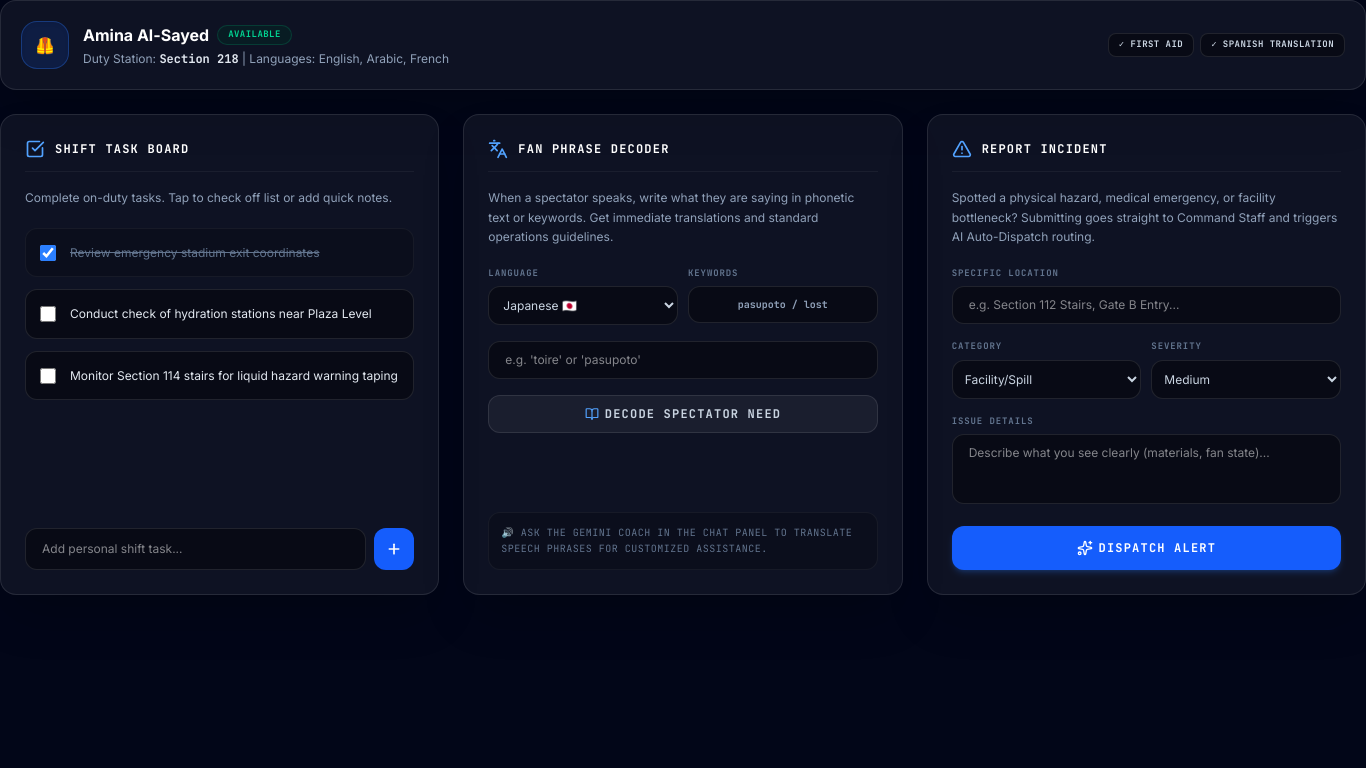
VolunteerDashboard Component Tests › adds a custom task using the form
Type "Review safety gear" into the field with id "new-task-input". click: [196, 549]
box: x1=25 y1=528 x2=366 y2=570
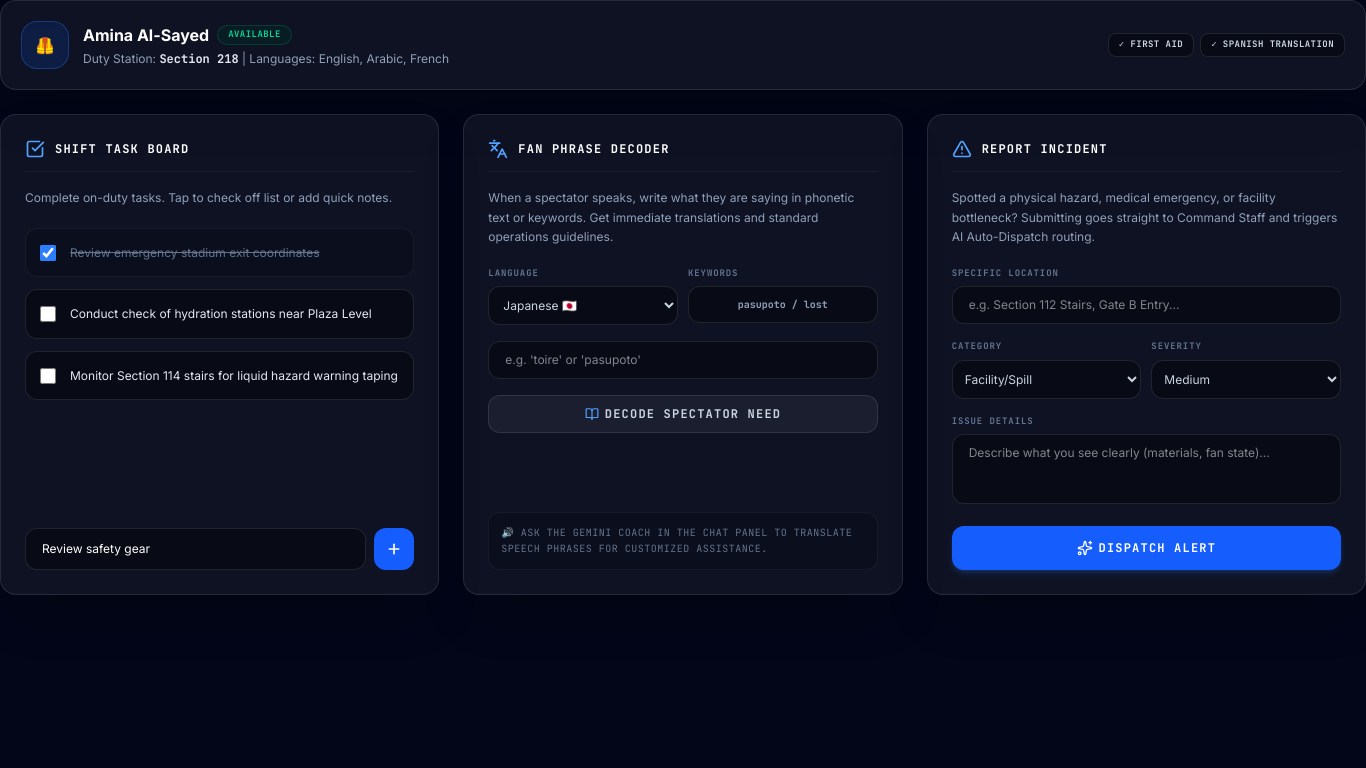
Submit the form with id "add-task-form", box x1=25 y1=528 x2=414 y2=570
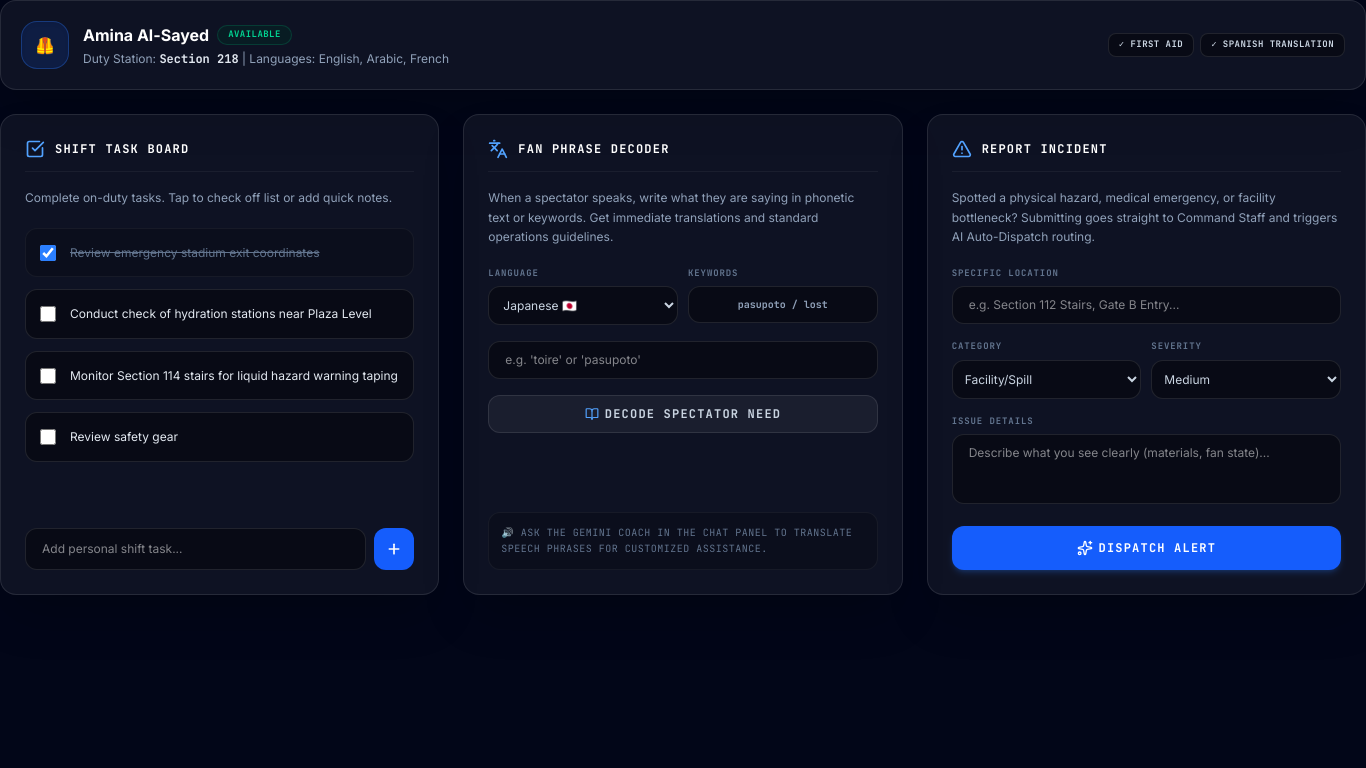
Now the text "Review safety gear" is shown, box x1=70 y1=427 x2=178 y2=446
